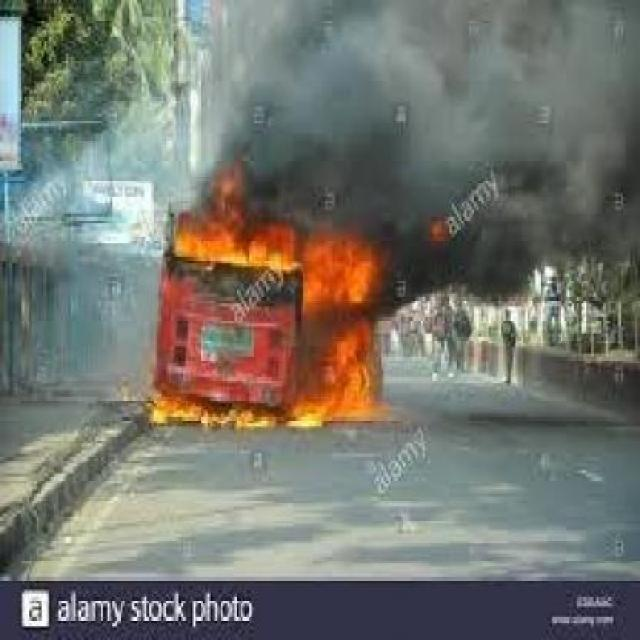Fire: (144, 153, 398, 430)
